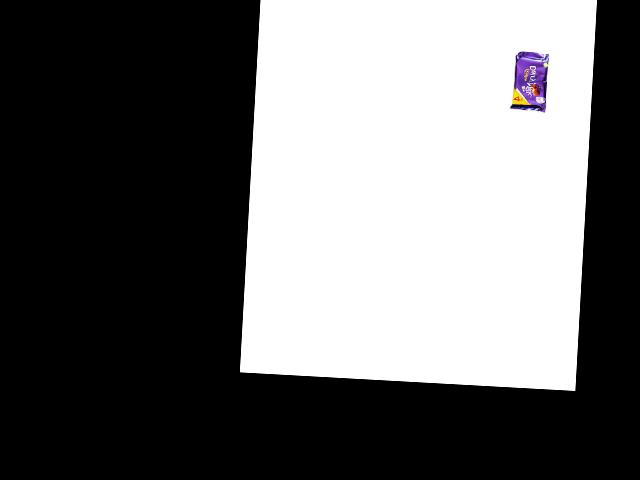chocolate: (510, 49, 554, 119)
